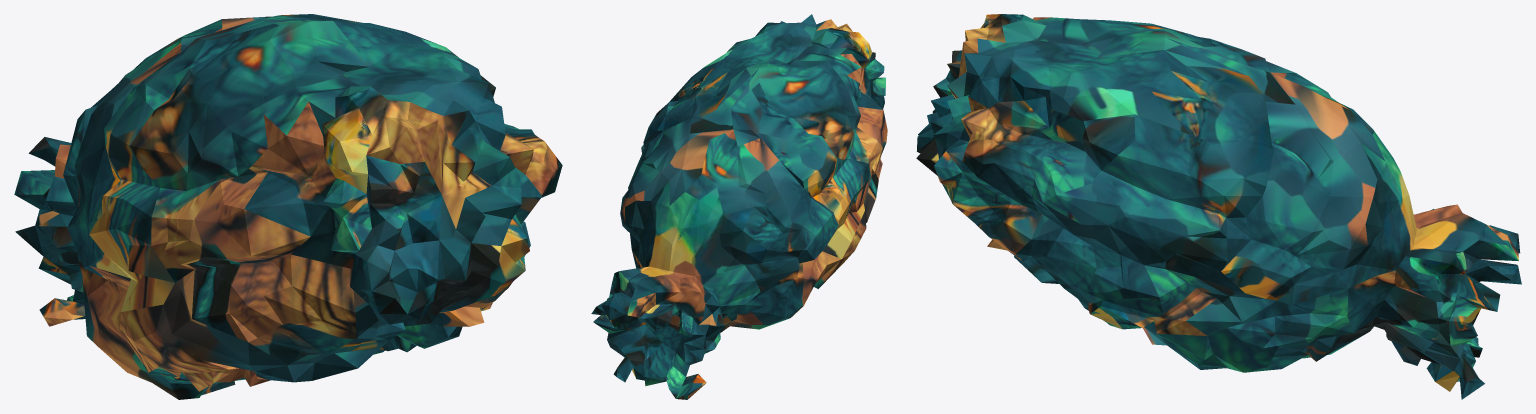
3 renders of one model, left to right at view 1: azimuth 30°, elevation 25°; view 2: azimuth 150°, elevation 25°; view 3: azimuth 270°, elevation 25°, orthographic. The views are drawn at different scales.
Size of the model in its own units: 0.5377 by 0.618 by 0.9772.
